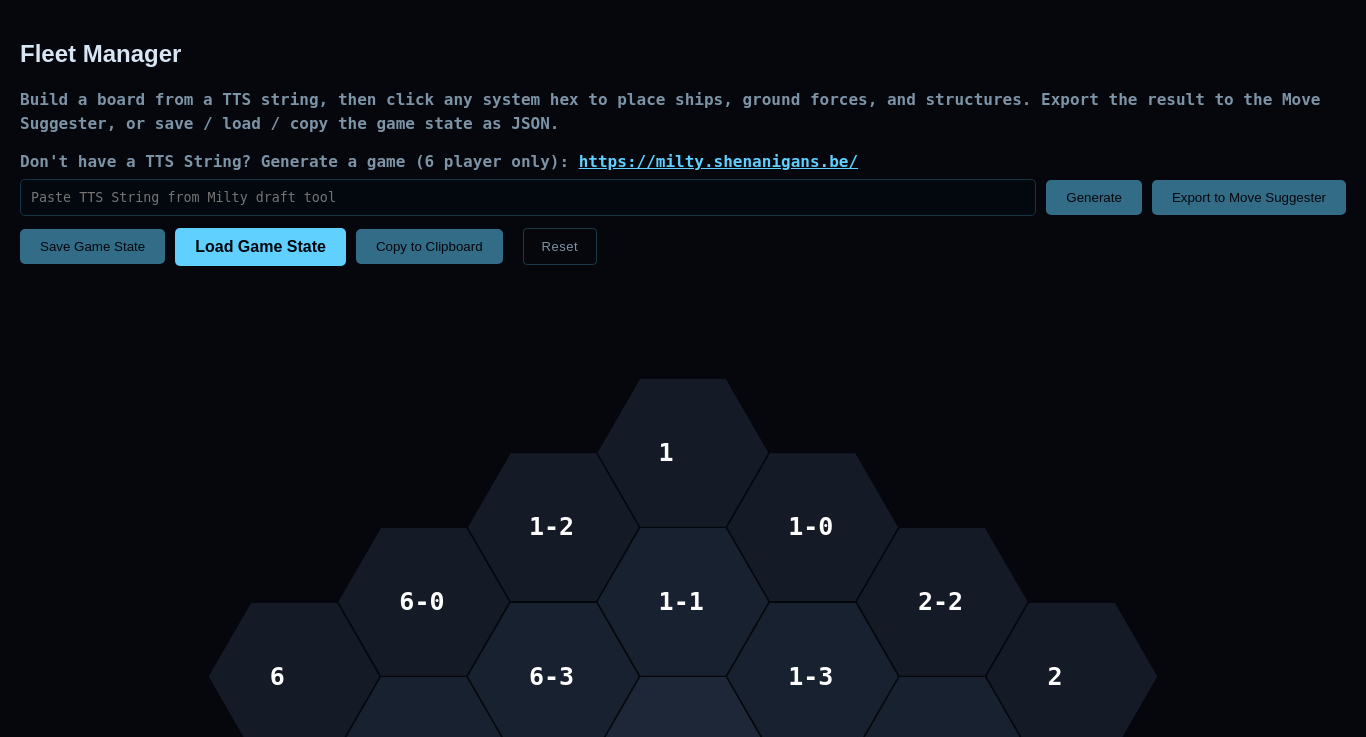
FleetManagerPanel › exports the current board to the Move Suggester
Expected: the button "Export to Move Suggester" is disabled, [1152,180,1346,215]
Type "78 40 42" into the field labelled "TTS String". click: (528, 197)
box: [20,179,1036,216]
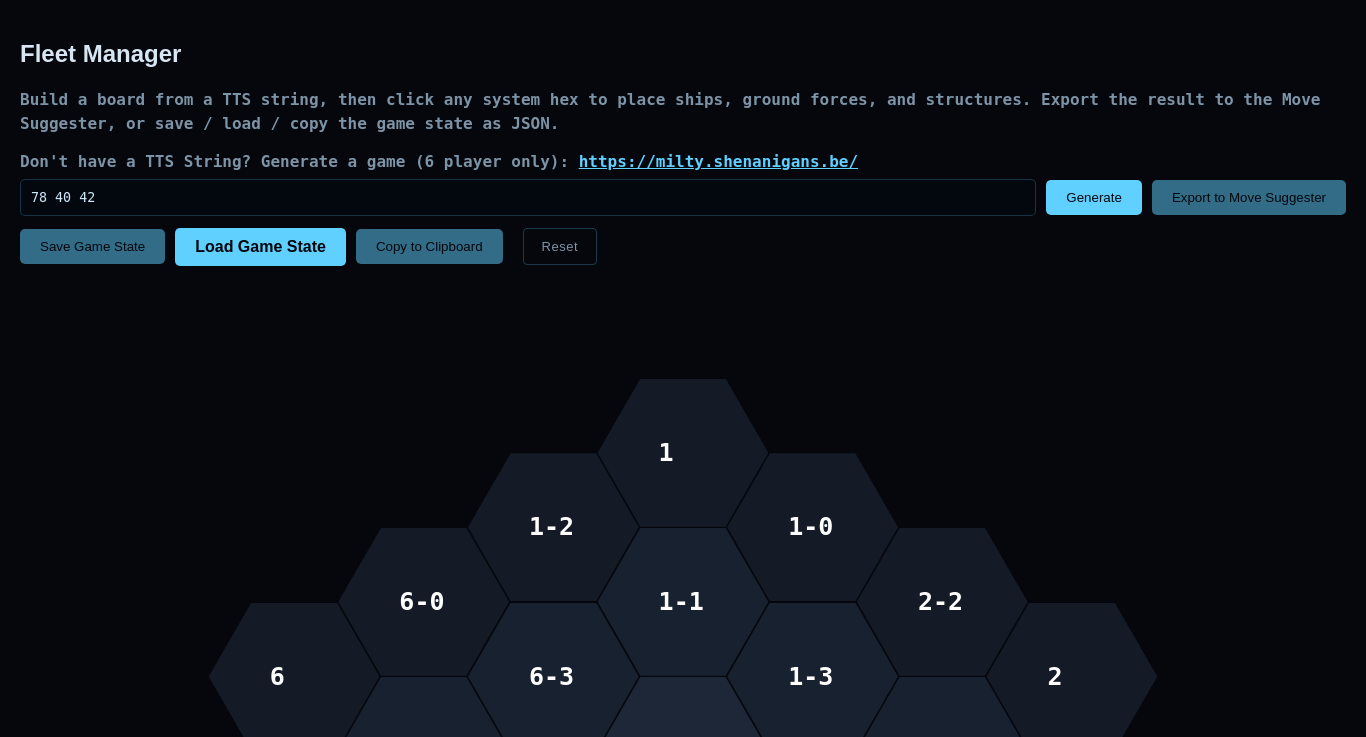
Click the button "Generate". click: (1094, 197)
box: [1046,180,1142,215]
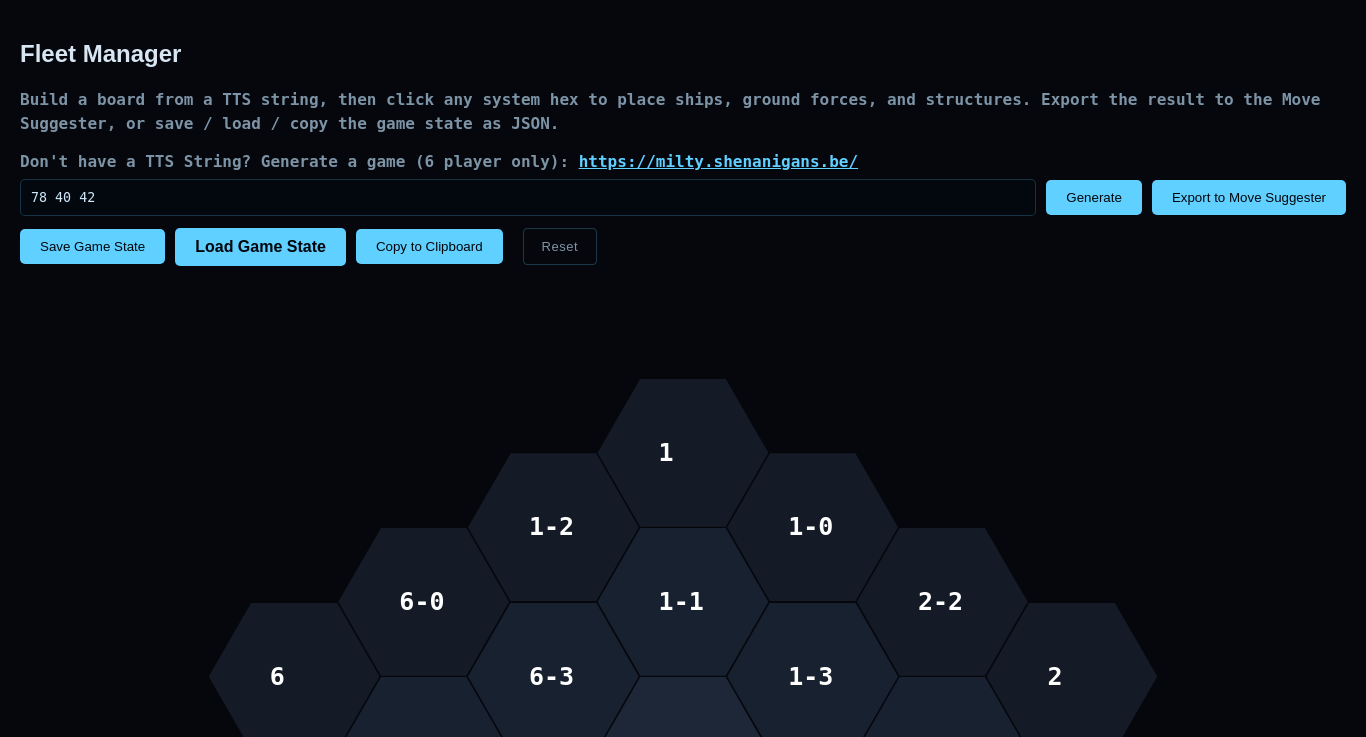
Expected: the button "Export to Move Suggester" is enabled
Click the button "Export to Move Suggester". click: (1249, 197)
box: [1152,180,1346,215]
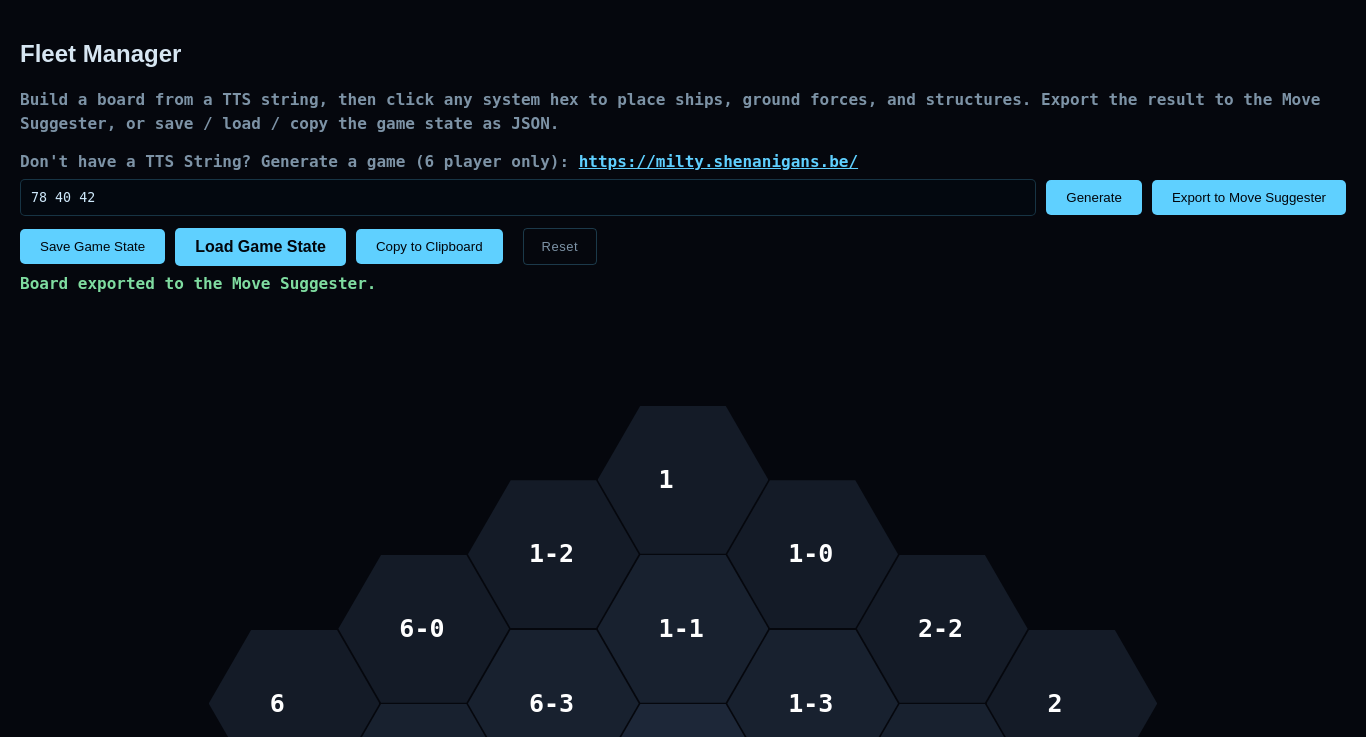
Expected: the text "Board exported to the Move Suggester." is shown, [20,274,376,293]
